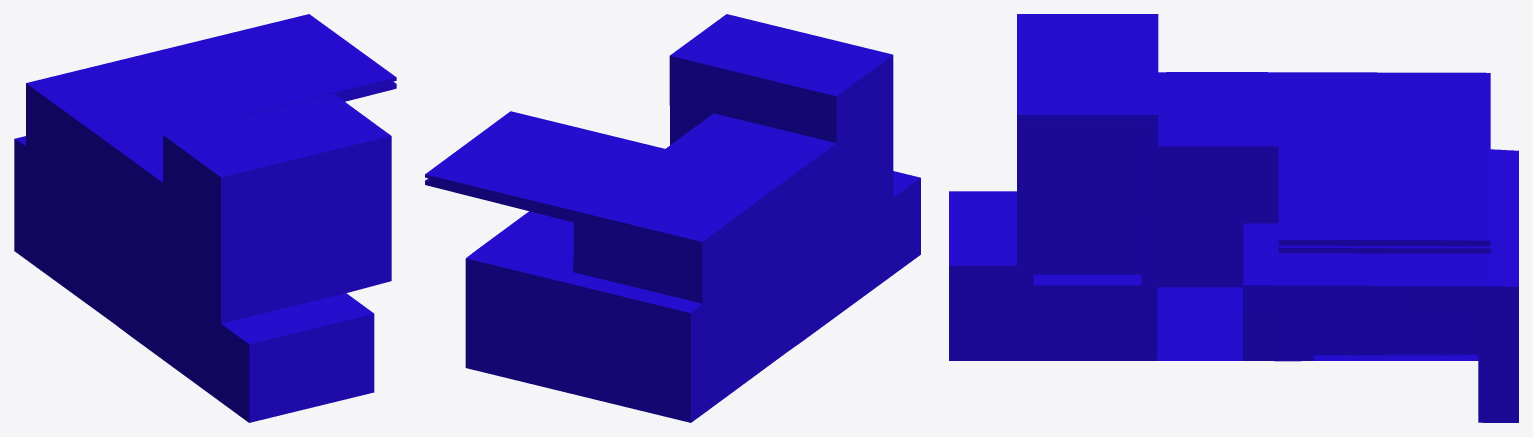
Rendered from housePaint.fbx.
3 renders of one model, left to right at view 1: azimuth 30°, elevation 25°; view 2: azimuth 150°, elevation 25°; view 3: azimuth 270°, elevation 25°, orthographic. The views are drawn at different scales.
Visible parts, largest first — view 1: Plane; view 2: Plane; view 3: Plane.
Boxes of the visible parts, x1,y1,x2,y2 form: Plane: (14,14,396,422); Plane: (425,14,920,422); Plane: (949,14,1518,422).
Size of the model in its own units: 3324 by 2523 by 4773.
